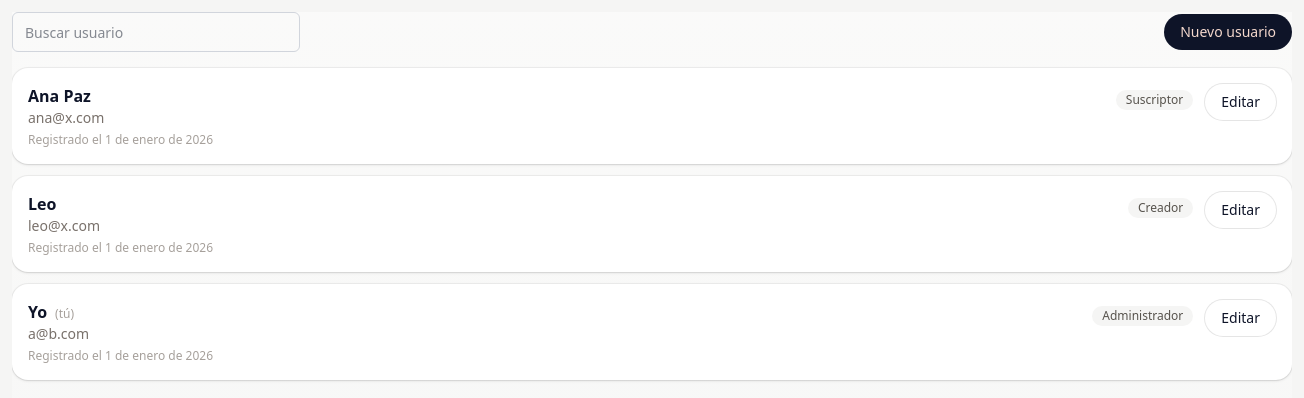
Test: UsersSection › filters by name or email
This screenshot has width=1304, height=398.
Check: the heading "Ana Paz" is shown, box 28,85 -> 91,107
Type "leo@" into the search field with placeholder "Buscar usuario" at (156, 32), box 12,12 -> 300,52
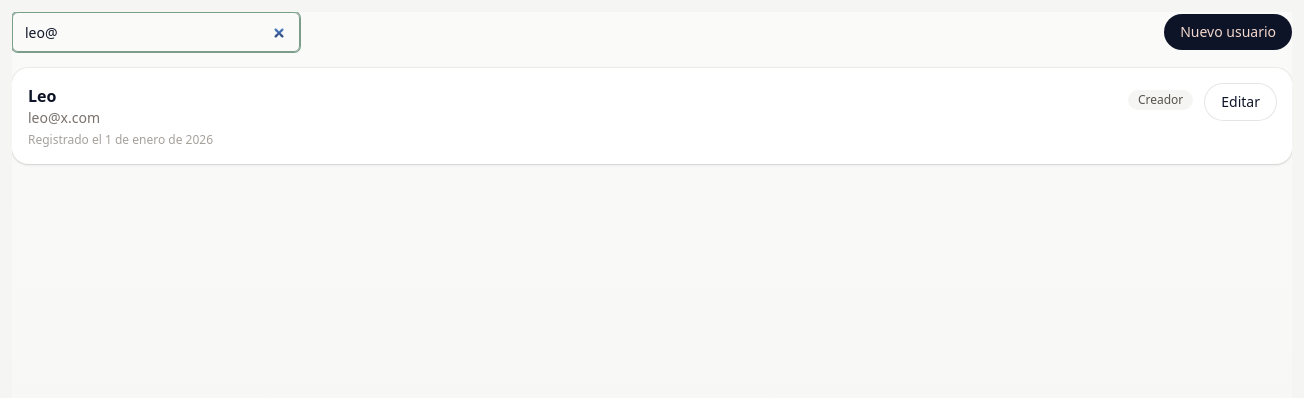
Check: the heading "Leo" is shown, box 28,85 -> 56,107
Check: the heading "Ana Paz" is gone
